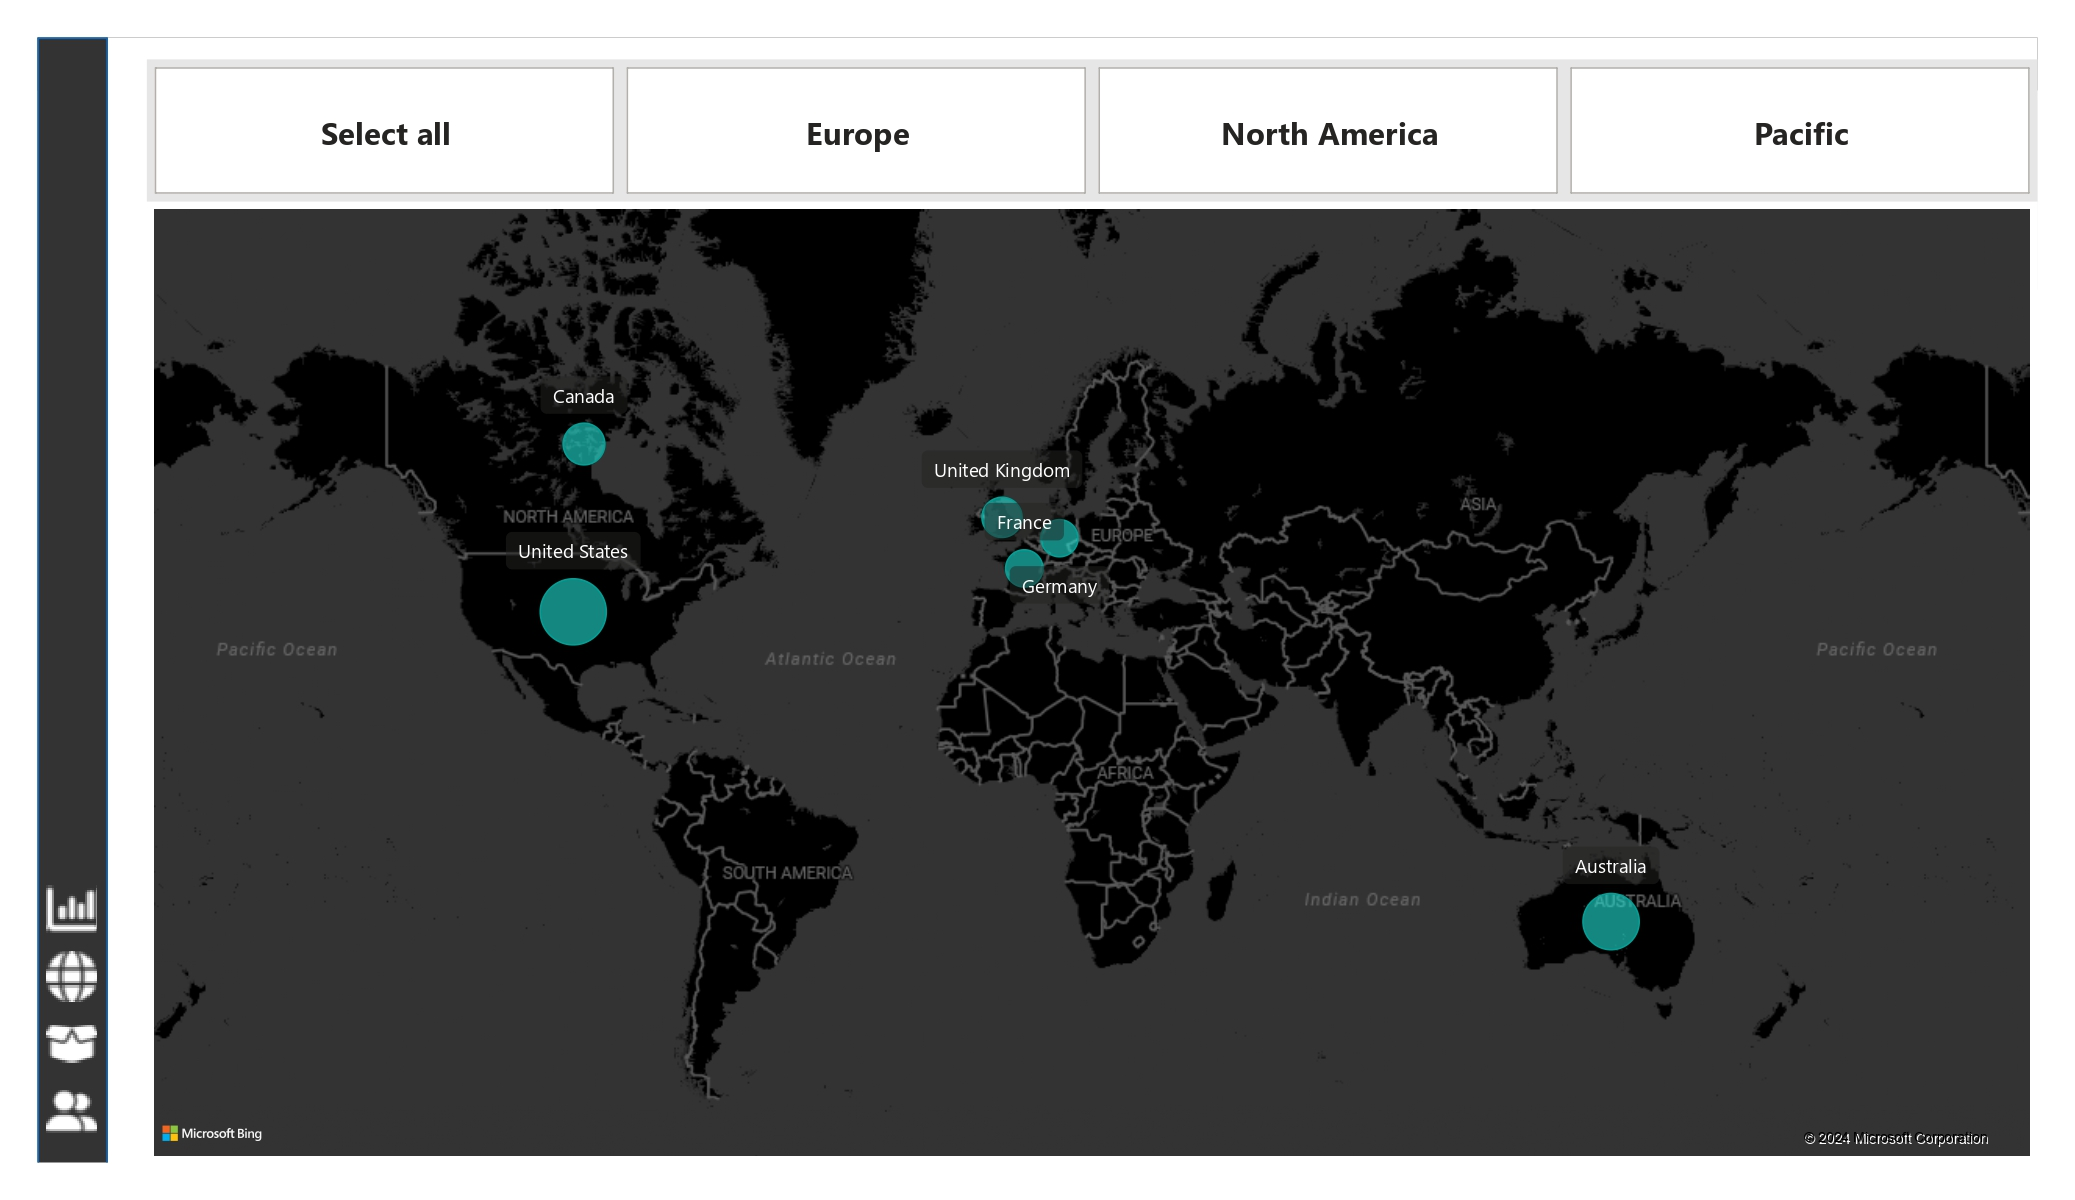

The dashboard page shown, as its layout file describes it:
{"tool":"powerbi","page":{"name":"Map","canvas":[1280,720],"ordinal":1},"visuals":[{"type":"shape","box":[0,0,45,720.5],"z":0},{"type":"actionButton","box":[2,538.4,77.9,39.8],"z":0,"group":"g1"},{"type":"actionButton","box":[2,581.3,77.9,39.8],"z":1000,"group":"g1"},{"type":"map","fields":{"Category":["Territory Lookup.Country"],"Size":["Measure Table.Total Orders"]},"box":[70,105,1210.5,615.6],"z":1000},{"type":"advancedSlicerVisual","fields":{"Values":["Territory Lookup.Continent"]},"box":[70,14.3,1210.5,90.7],"z":2000},{"type":"actionButton","box":[2,624.3,77.9,39.8],"z":2000,"group":"g1"},{"type":"actionButton","box":[2,667.2,77.9,39.8],"z":3000,"group":"g1"},{"type":"group","id":"g1","title":"Navigation Buttons","box":[2,538.4,79.2,168.6],"z":3000}]}

Visuals, with their boxes in screenshot pixels (x1, y1, x2, y2):
shape: bbox(32, 38, 102, 1149)
actionButton: bbox(35, 868, 156, 929)
actionButton: bbox(35, 934, 156, 996)
map - Territory Lookup.Country x Measure Table.Total Orders: bbox(140, 200, 2007, 1149)
advancedSlicerVisual - Territory Lookup.Continent: bbox(140, 60, 2007, 200)
actionButton: bbox(35, 1001, 156, 1062)
actionButton: bbox(35, 1067, 156, 1128)
"Navigation Buttons" group: bbox(35, 868, 158, 1128)
